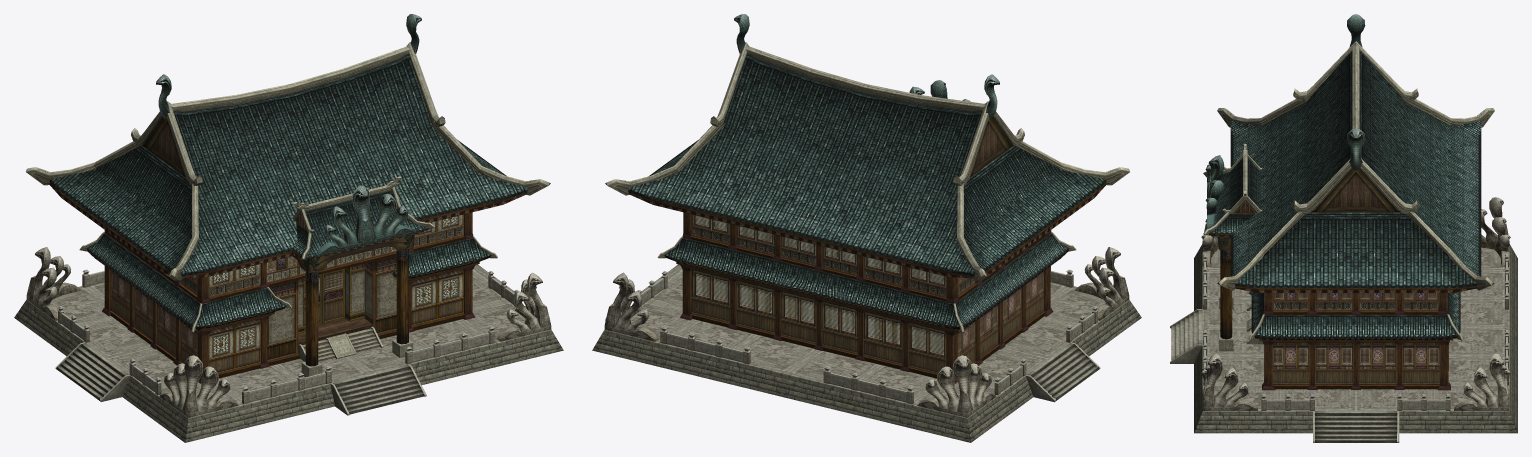
Rendered from gls_a_01.fbx.
The picture shows the model from 3 angles, left to right: view 1: azimuth 30°, elevation 25°; view 2: azimuth 150°, elevation 25°; view 3: azimuth 270°, elevation 25°; orthographic projection. The views are drawn at different scales.
Visible parts, largest first — view 1: gls_A_01, gls_A_01_01; view 2: gls_A_01, gls_A_01_01; view 3: gls_A_01, gls_A_01_01.
Boxes of the visible parts, left/top/right/bottom form: gls_A_01: left=14, top=42, right=563, bottom=442; gls_A_01_01: left=26, top=14, right=551, bottom=417; gls_A_01: left=592, top=42, right=1141, bottom=442; gls_A_01_01: left=604, top=14, right=1129, bottom=417; gls_A_01: left=1170, top=41, right=1517, bottom=442; gls_A_01_01: left=1201, top=14, right=1510, bottom=410.
Size of the model in its own units: 24.99 by 16.44 by 18.88.
